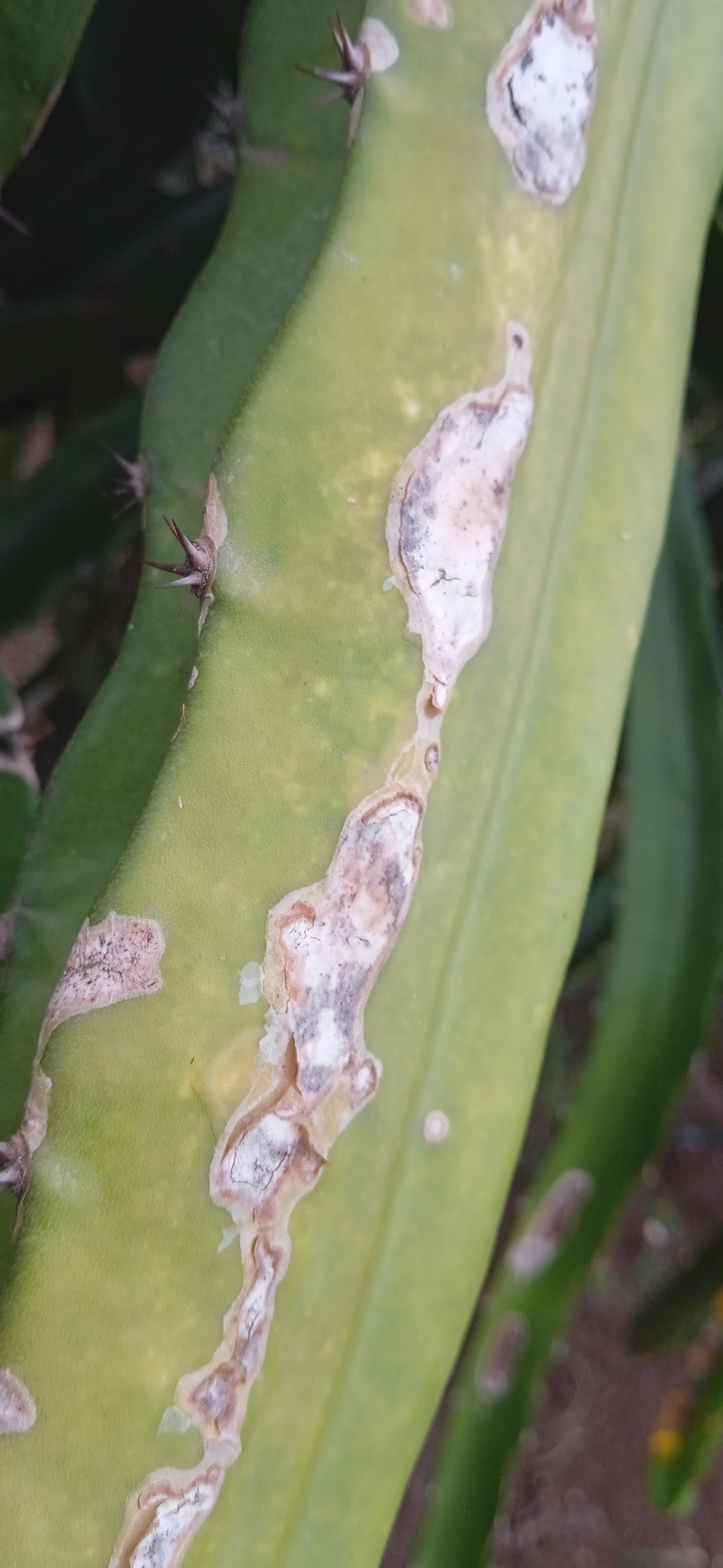stemcanker: (202, 775, 427, 1242), (376, 307, 542, 737), (107, 1225, 297, 1568), (482, 1, 608, 215), (31, 909, 169, 1085)
